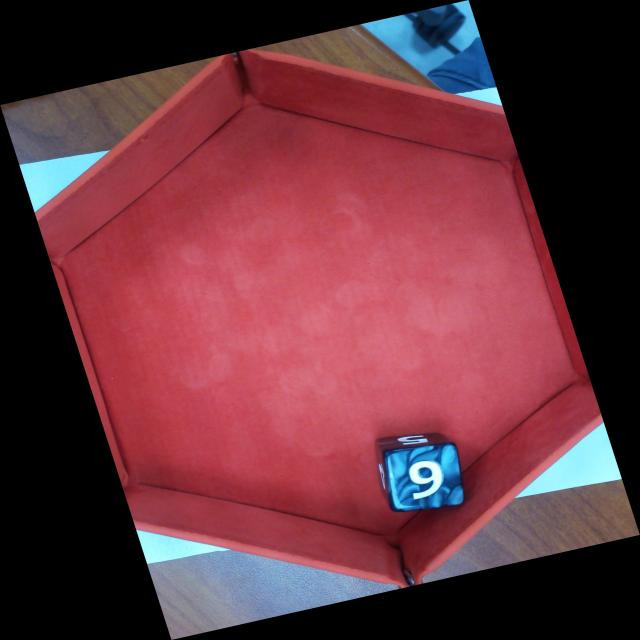dice: (393, 442, 461, 508)
